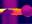Hotspot: (0, 9, 5, 13)
